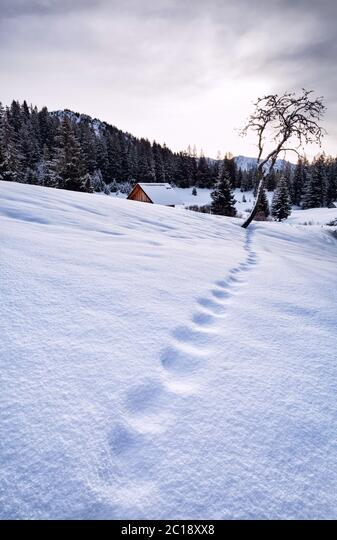fox: (122, 369, 177, 432)
